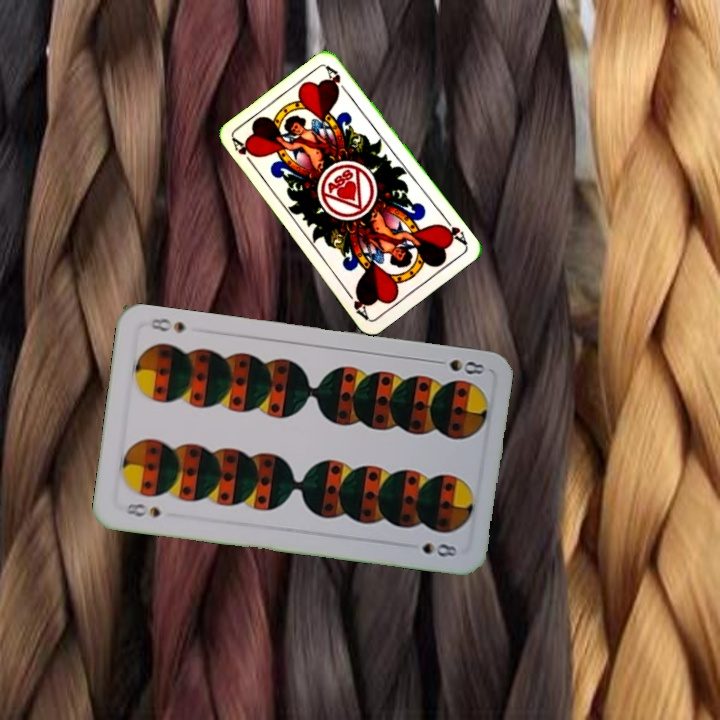HA: (437, 212, 469, 247), (229, 134, 258, 170)
S8: (428, 355, 488, 377), (121, 499, 164, 520)
